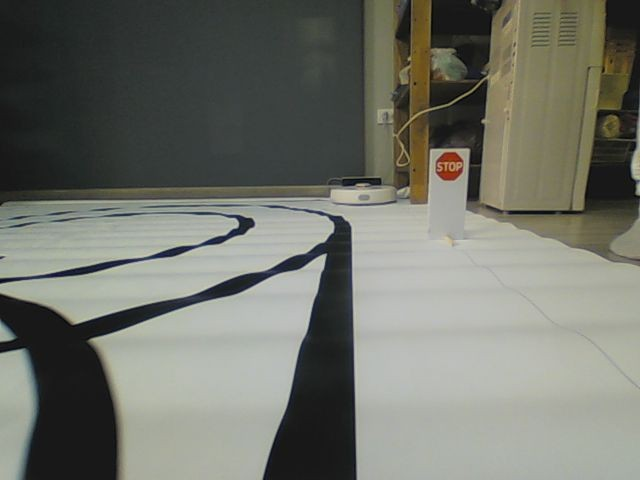Stop: (433, 152, 466, 182)
